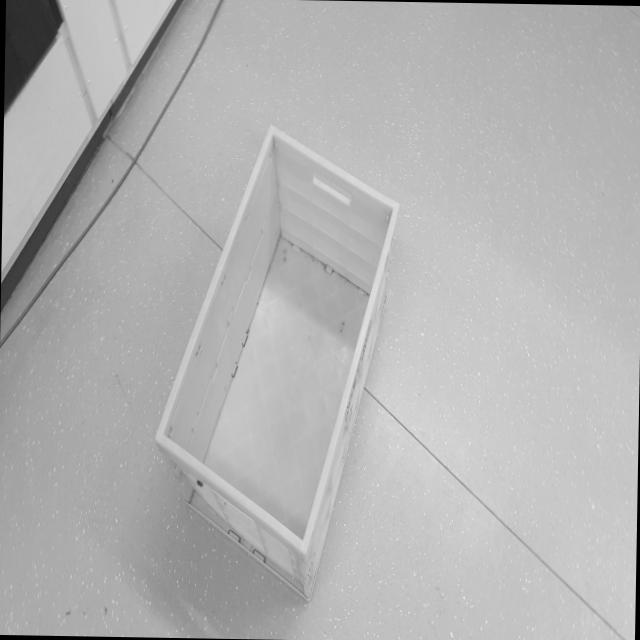box: (146, 116, 406, 606)
